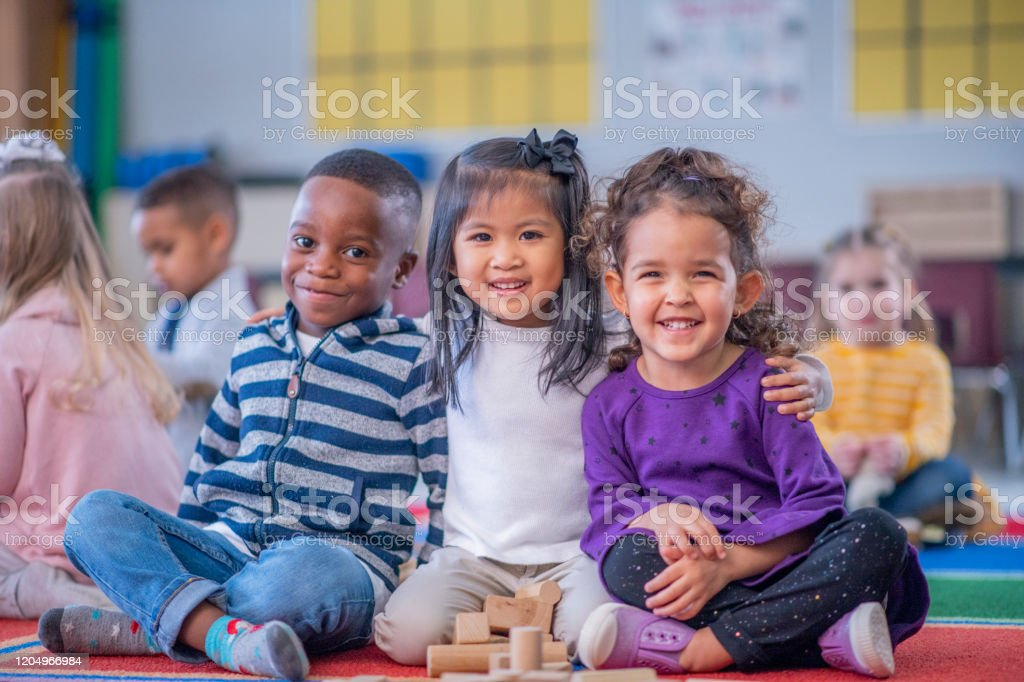human: (49, 130, 444, 678), (584, 109, 934, 675), (370, 129, 625, 682)
